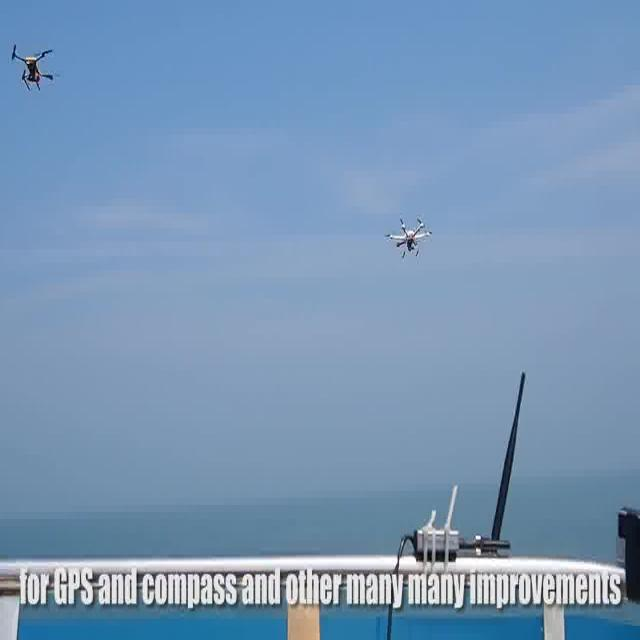Drone_FW: (383, 212, 433, 270), (10, 44, 64, 95)
